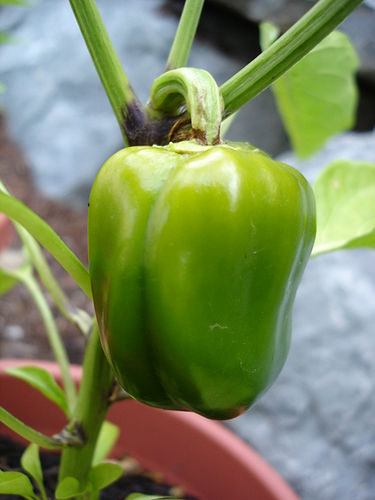capsicum: (80, 100, 321, 423)
